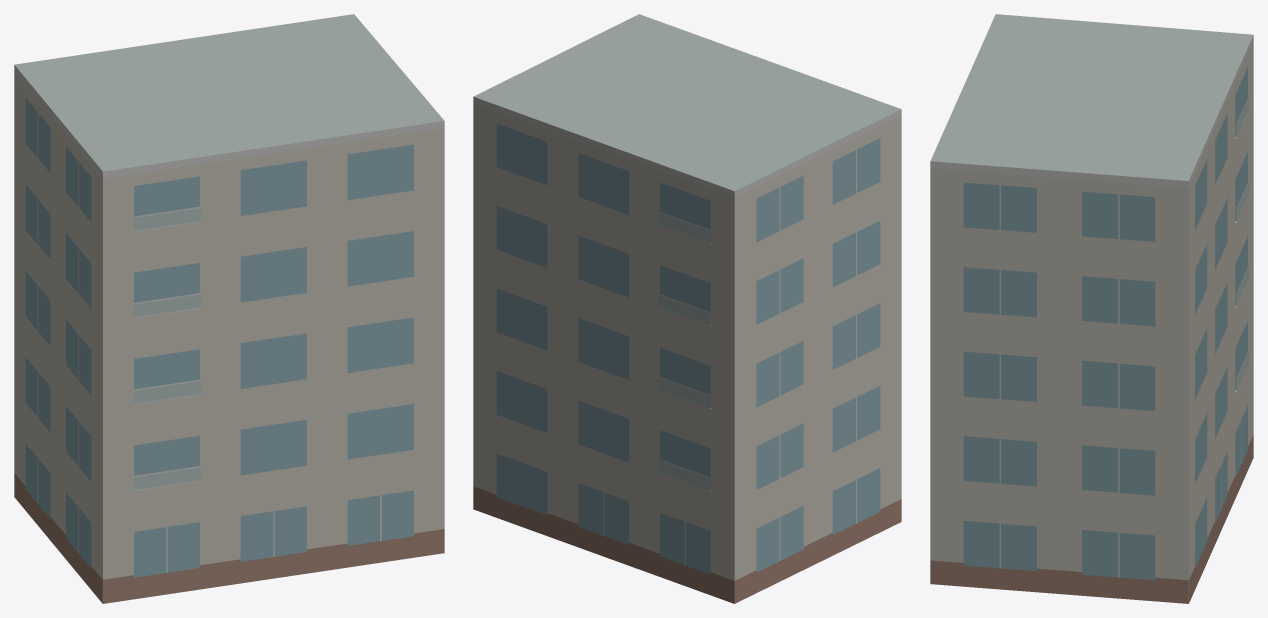
The model's file is survey-upis-32975997.glb.
3 views of the same model, side by side, from view 1: azimuth 30°, elevation 25°; view 2: azimuth 150°, elevation 25°; view 3: azimuth 270°, elevation 25° (orthographic). The views are drawn at different scales.
Parts seen in each view (by area): view 1: survey-upis-32975997.tmp; view 2: survey-upis-32975997.tmp; view 3: survey-upis-32975997.tmp.
Part boxes in pixels (bbox=[...]): survey-upis-32975997.tmp: bbox=[14, 14, 444, 603]; survey-upis-32975997.tmp: bbox=[473, 14, 901, 603]; survey-upis-32975997.tmp: bbox=[930, 14, 1253, 603].
Bounding box in the file's own units: 12.72 × 15 × 10.4.
